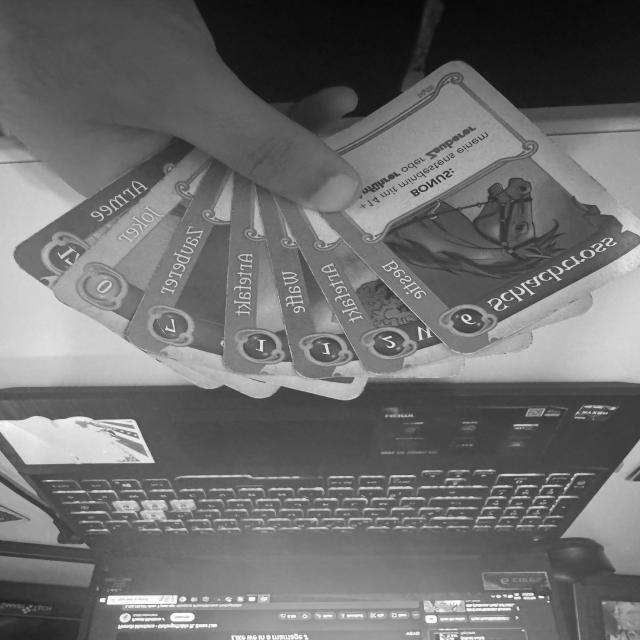Collector: (121, 160, 234, 370)
Light Cavalry: (8, 137, 195, 290)
Magic Wand: (254, 181, 366, 382)
Mirage: (49, 145, 215, 336)
Rune Of Protection: (225, 173, 289, 376)
War Horse: (316, 56, 640, 360)
World Tree: (271, 193, 455, 379)
